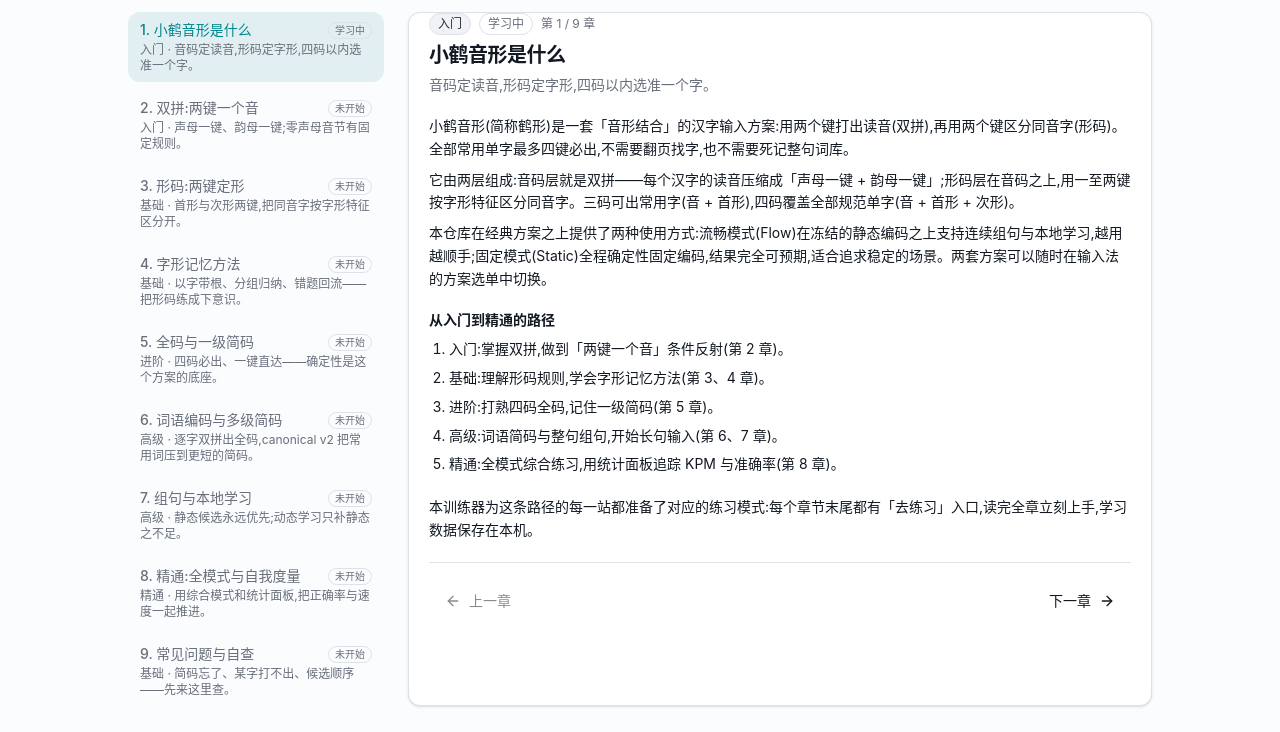
it: LearnView › 有练习小节的章节展示覆盖数(已练/关联),无练习章节不显示
Click the button "2. 双拼:两键一个音 未开始 入门 · 声母一键、韵母一键;零声母音节有固定规则。": x=256, y=125 [128,90,384,160]
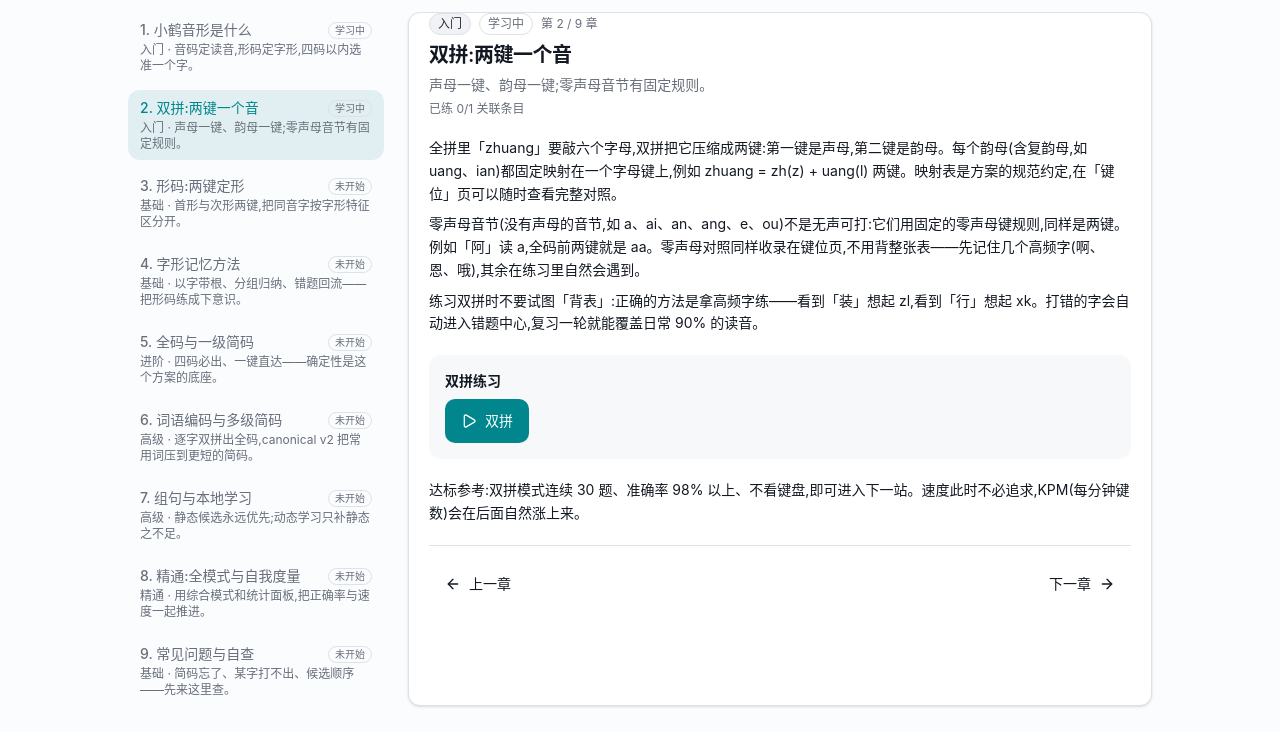
Expected: the navigation bar "学习" is shown, [128,12,384,706]
Result: the text "已练 0/1 关联条目" is shown at [429,101,524,116]
